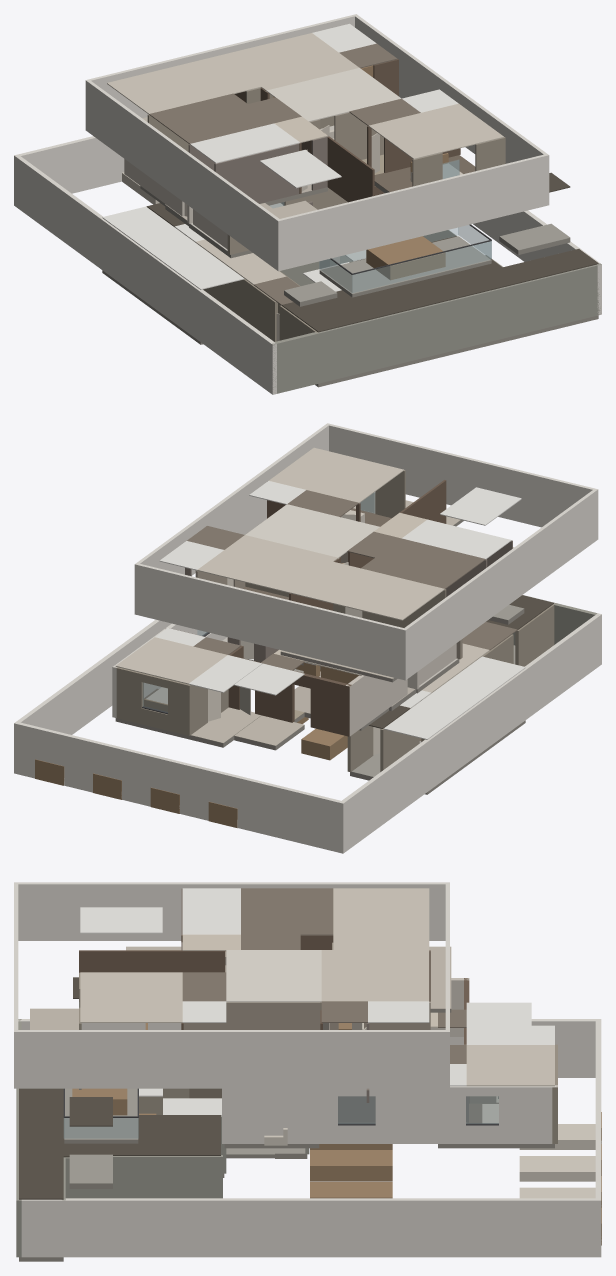
File: ninteen-villa8.glb
The picture shows the model from 3 angles, top to bottom: view 1: azimuth 30°, elevation 25°; view 2: azimuth 150°, elevation 25°; view 3: azimuth 270°, elevation 25°; orthographic projection. The views are drawn at different scales.
Visible parts, largest first — view 1: L-p10-2/auto:wall/main, L-p9-1/auto:wall/main, L-p9-1/m-a7-83072464-2/main, L-p10-2/m-a6-170d0d95-4/ceiling/inferred, L-p9-1/m-a7-83072464-3/ceiling/inferred, L-p10-2/m-a6-43868484-6/ceiling/inferred, L-p10-2/auto:ceiling/ceiling/inferred, L-p9-1/auto:ceiling/ceiling/inferred, L-p9-2/m-a7-83072464-1/main, L-p9-2/auto:glass/glass, L-p10-2/m-a6-43868484-1/main, L-p10-2/m-a7-f3795d0d-6/ceiling/inferred (+14 smaller); view 2: L-p10-2/auto:wall/main, L-p9-1/auto:wall/main, L-p10-2/m-a6-170d0d95-4/ceiling/inferred, L-p10-2/m-a6-43868484-6/ceiling/inferred, L-p10-2/auto:ceiling/ceiling/inferred, L-p9-1/auto:ceiling/ceiling/inferred, L-p9-2/m-a6-170d0d95-2/main, L-p9-1/m-a6-170d0d95-2/main, L-p10-2/m-a7-f3795d0d-6/ceiling/inferred, L-p9-2/m-a6-43868484-1/main, L-p9-1/auto:joinery/main, L-p9-2/auto:ceiling/ceiling/inferred (+18 smaller); view 3: L-p9-1/auto:wall/main, L-p10-2/auto:wall/main, L-p10-2/m-a6-170d0d95-4/ceiling/inferred, L-p9-2/auto:wall/main, L-p9-1/m-a7-83072464-3/ceiling/inferred, L-p10-2/m-a6-43868484-6/ceiling/inferred, L-p10-2/auto:ceiling/ceiling/inferred, L-p9-1/m-a7-83072464-2/main, L-p10-2/m-a7-f3795d0d-6/ceiling/inferred, L-p9-1/auto:joinery/main, L-p9-1/auto:fabric/main, L-p10-2/m-a6-43868484-1/main (+19 smaller).
Boxes of the visible parts, x1,y1,x2,y2 form: L-p10-2/auto:wall/main: (85, 14, 549, 271); L-p9-1/auto:wall/main: (14, 136, 601, 394); L-p9-1/m-a7-83072464-2/main: (272, 230, 601, 393); L-p10-2/m-a6-170d0d95-4/ceiling/inferred: (107, 33, 503, 159); L-p9-1/m-a7-83072464-3/ceiling/inferred: (147, 203, 598, 332); L-p10-2/m-a6-43868484-6/ceiling/inferred: (149, 43, 420, 144); L-p10-2/auto:ceiling/ceiling/inferred: (190, 23, 458, 188); L-p9-1/auto:ceiling/ceiling/inferred: (102, 206, 366, 291); L-p9-2/m-a7-83072464-1/main: (284, 223, 570, 302); L-p9-2/auto:glass/glass: (270, 202, 491, 293); L-p10-2/m-a6-43868484-1/main: (234, 59, 460, 202); L-p10-2/m-a7-f3795d0d-6/ceiling/inferred: (266, 68, 401, 121); L-p10-2/auto:wall/main: (134, 423, 598, 680); L-p9-1/auto:wall/main: (14, 613, 601, 853); L-p10-2/m-a6-170d0d95-4/ceiling/inferred: (197, 447, 444, 620); L-p10-2/m-a6-43868484-6/ceiling/inferred: (187, 490, 485, 589); L-p10-2/auto:ceiling/ceiling/inferred: (159, 481, 521, 570); L-p9-1/auto:ceiling/ceiling/inferred: (383, 656, 525, 739); L-p9-2/m-a6-170d0d95-2/main: (115, 655, 229, 735); L-p9-1/m-a6-170d0d95-2/main: (347, 603, 555, 772); L-p10-2/m-a7-f3795d0d-6/ceiling/inferred: (245, 504, 379, 558); L-p9-2/m-a6-43868484-1/main: (228, 645, 351, 736); L-p9-1/auto:joinery/main: (35, 665, 347, 827); L-p9-2/auto:ceiling/ceiling/inferred: (155, 628, 304, 695); L-p9-1/auto:wall/main: (18, 1019, 601, 1257); L-p10-2/auto:wall/main: (14, 882, 449, 1088); L-p10-2/m-a6-170d0d95-4/ceiling/inferred: (80, 888, 429, 1022); L-p9-2/auto:wall/main: (222, 1085, 557, 1143); L-p9-1/m-a7-83072464-3/ceiling/inferred: (19, 1088, 221, 1199); L-p10-2/m-a6-43868484-6/ceiling/inferred: (182, 888, 367, 1022); L-p10-2/auto:ceiling/ceiling/inferred: (80, 888, 429, 1022); L-p9-1/m-a7-83072464-2/main: (16, 1019, 309, 1257); L-p10-2/m-a7-f3795d0d-6/ceiling/inferred: (226, 950, 321, 1002); L-p9-1/auto:joinery/main: (139, 1112, 601, 1244); L-p9-1/auto:fabric/main: (519, 1124, 601, 1245); L-p10-2/m-a6-43868484-1/main: (79, 935, 430, 1029).
Size of the model in its own units: 19.59 by 10.17 by 26.8.
